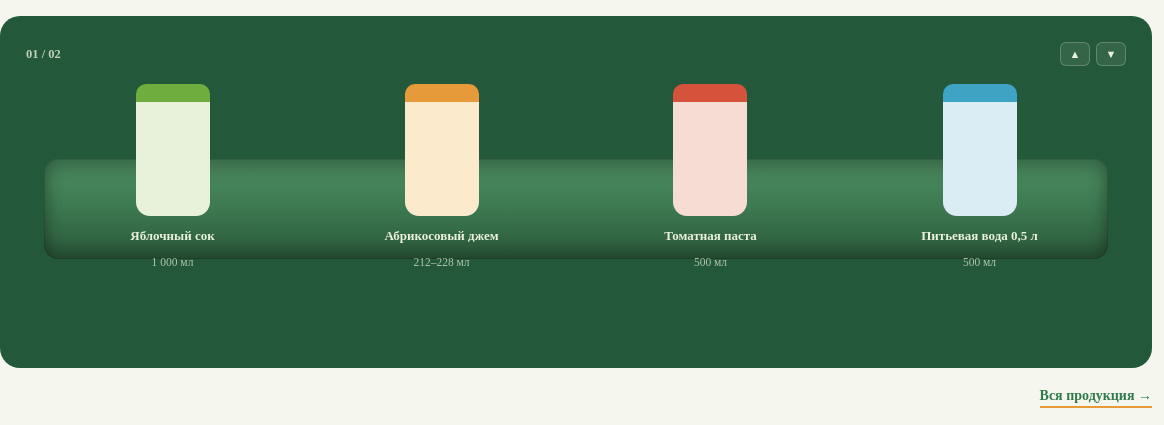
Scenario: Assembly line › wraps around rather than dead-ending at the last batch
The width and height of the screenshot is (1164, 425).
Check: the text "Яблочный сок" is shown, box [130,228,215,244]
What coordinates should you click on to do the following:
click the button named "Предыдущая партия"
I would click on:
 (1075, 54)
Its box is [1060,42,1090,66].
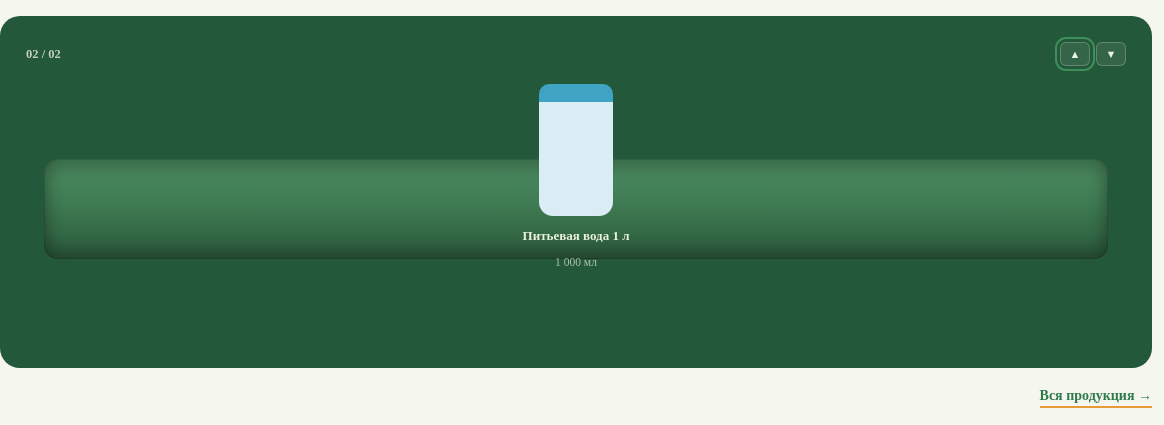
Check: the text "02 / 02" is shown, box [26,46,61,62]
